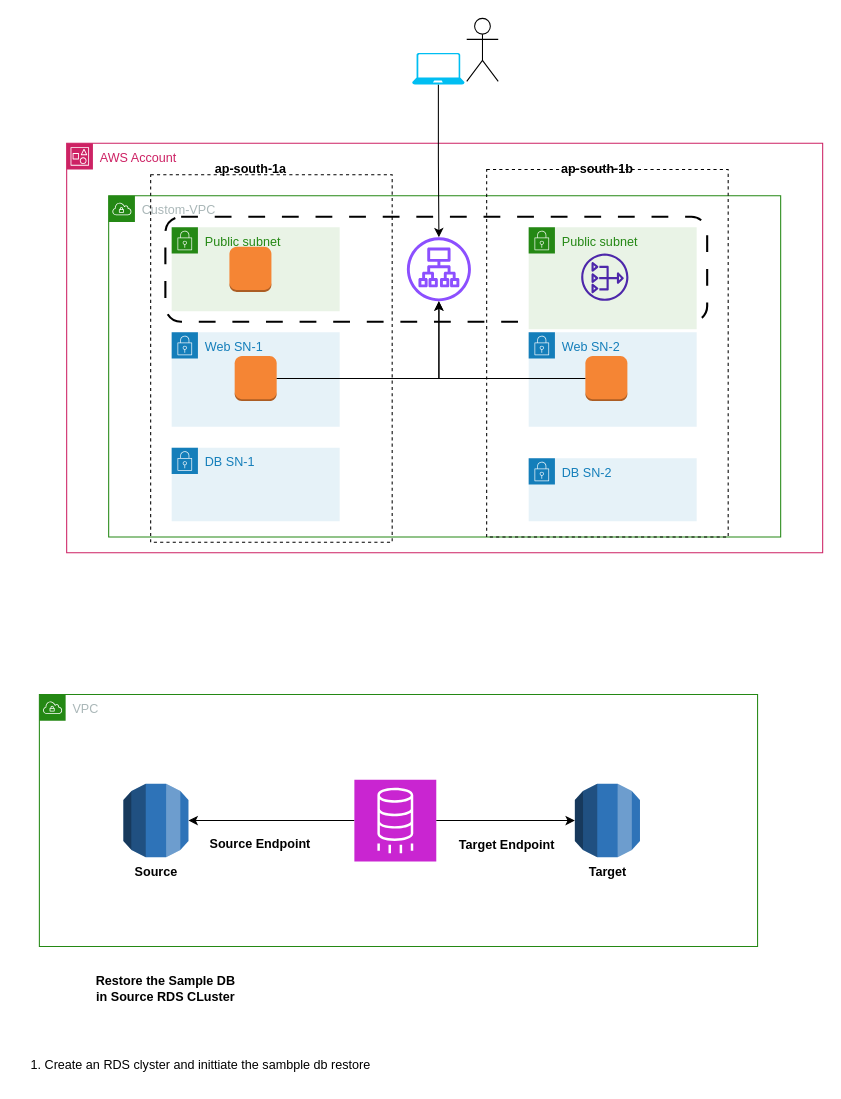
Some shapes in this 841 by 1099 pixel diagram are drawn without their labels. The shapes that lost their labels are listed below. From the top down, each one's centre as x and y in pixels, then its label:
At pixel 482 49: "Actor".
At pixel 249 269: "JUMP Server".
At pixel 604 276: "NAT Instance".
At pixel 255 378: "Web Server - 1".
At pixel 605 378: "Web Server - 2".
At pixel 394 820: "DMS Instance".
